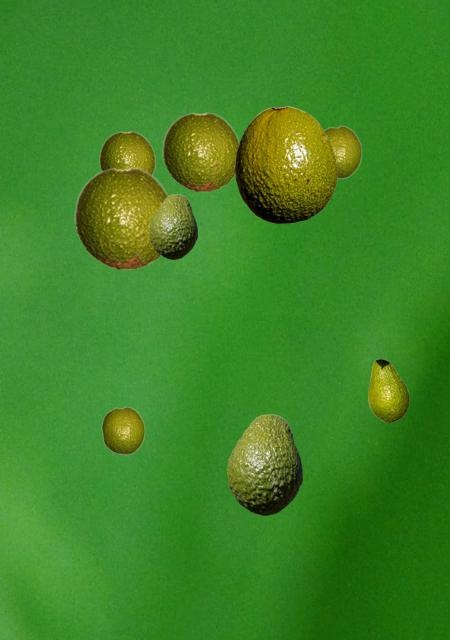avocado: (235, 106, 336, 222), (74, 167, 168, 269), (227, 414, 301, 514), (162, 112, 239, 191), (149, 194, 196, 258), (368, 359, 408, 421), (99, 131, 155, 174), (101, 406, 144, 454), (324, 125, 361, 178)
